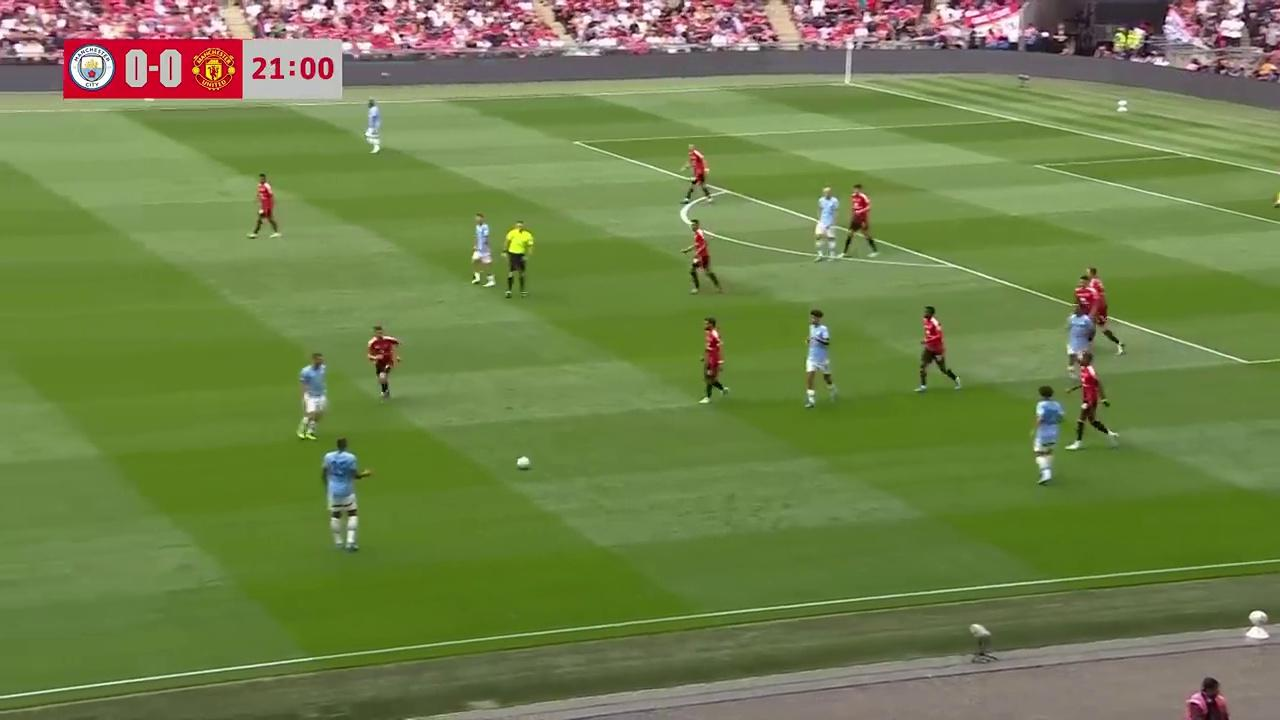ball: (514, 453, 531, 470)
player: (320, 436, 373, 551), (1068, 354, 1119, 450), (915, 305, 961, 393), (1082, 267, 1124, 354), (1030, 385, 1065, 485), (804, 309, 838, 409), (682, 219, 722, 293), (296, 352, 328, 442), (365, 323, 402, 399), (698, 317, 730, 404), (841, 183, 878, 257), (247, 173, 281, 239), (1065, 300, 1094, 373), (814, 186, 840, 262), (682, 147, 714, 205), (471, 212, 496, 286), (365, 98, 381, 154)
referee: (502, 218, 534, 299)
